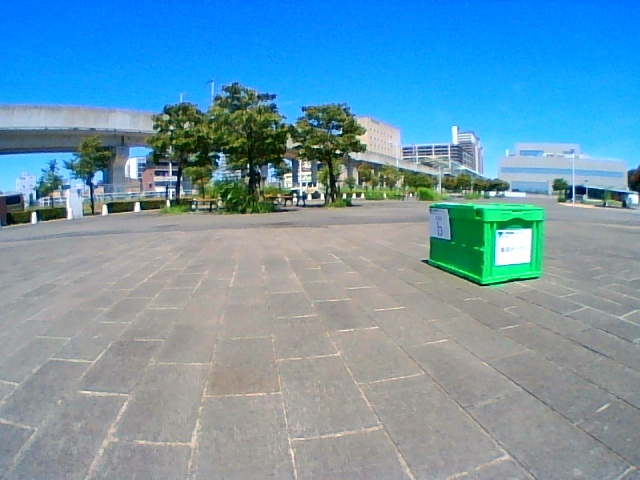green_box: (429, 202, 541, 284)
tag_b: (429, 209, 449, 238)
